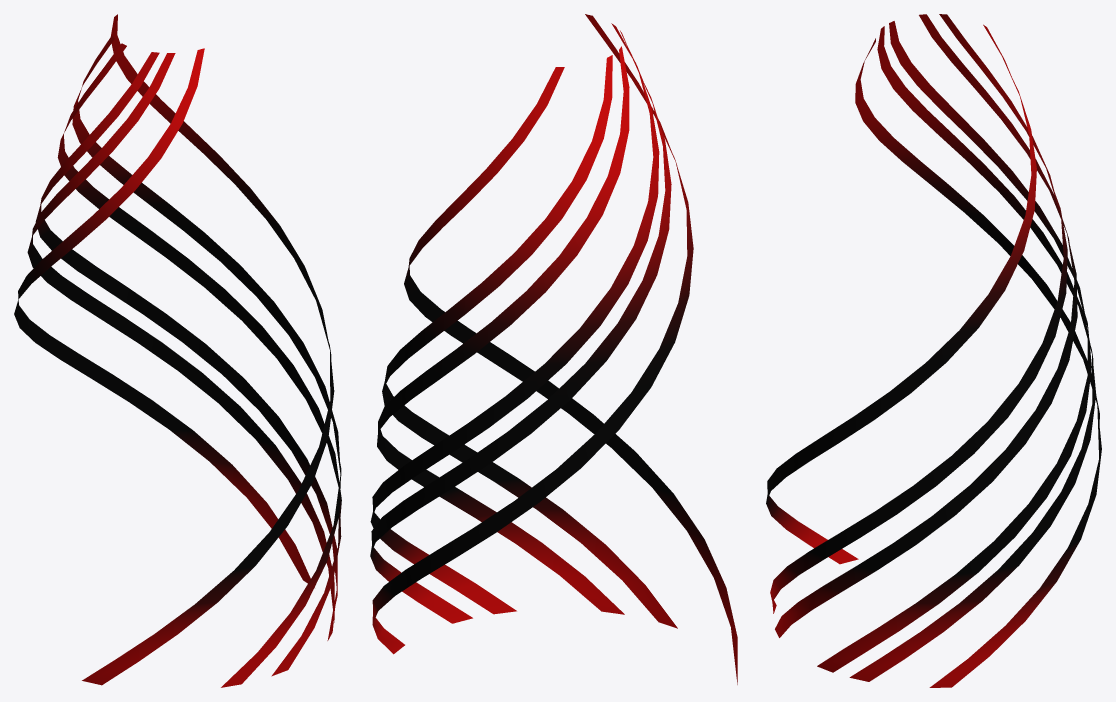
The model's file is SM_LootBox_Summon_Lines.fbx.
3 renders of one model, left to right at view 1: azimuth 30°, elevation 25°; view 2: azimuth 150°, elevation 25°; view 3: azimuth 270°, elevation 25°, orthographic. The views are drawn at different scales.
Visible parts, largest first — view 1: SM_LootBox_Summon_Lines; view 2: SM_LootBox_Summon_Lines; view 3: SM_LootBox_Summon_Lines.
Boxes of the visible parts, x1,y1,x2,y2 form: SM_LootBox_Summon_Lines: (14,14,341,687); SM_LootBox_Summon_Lines: (370,14,737,684); SM_LootBox_Summon_Lines: (766,14,1101,687).
Size of the model in its own units: 24.28 by 26.21 by 50.
